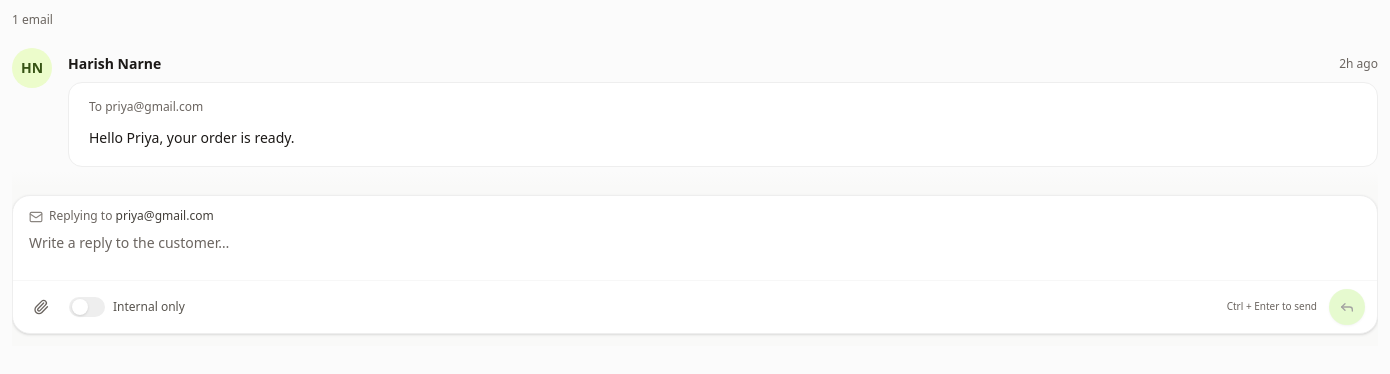
RecordCommunicationTab reply box › says so when the reply was saved but the email was not delivered
Type "Hello" into the text box at coordinates (695, 252), box [13,224,1377,280]
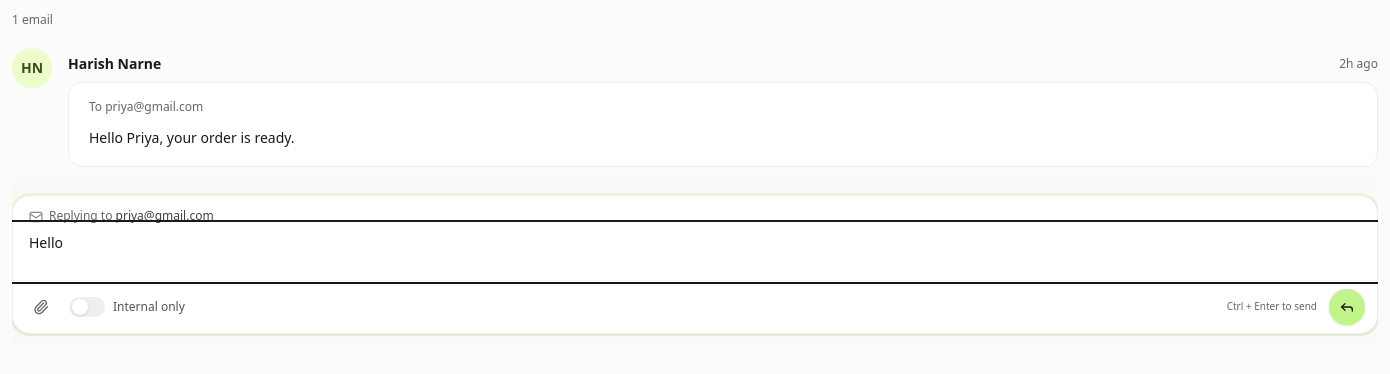
Click the button named "Send reply" at coordinates (1347, 307), box [1329,289,1365,325]
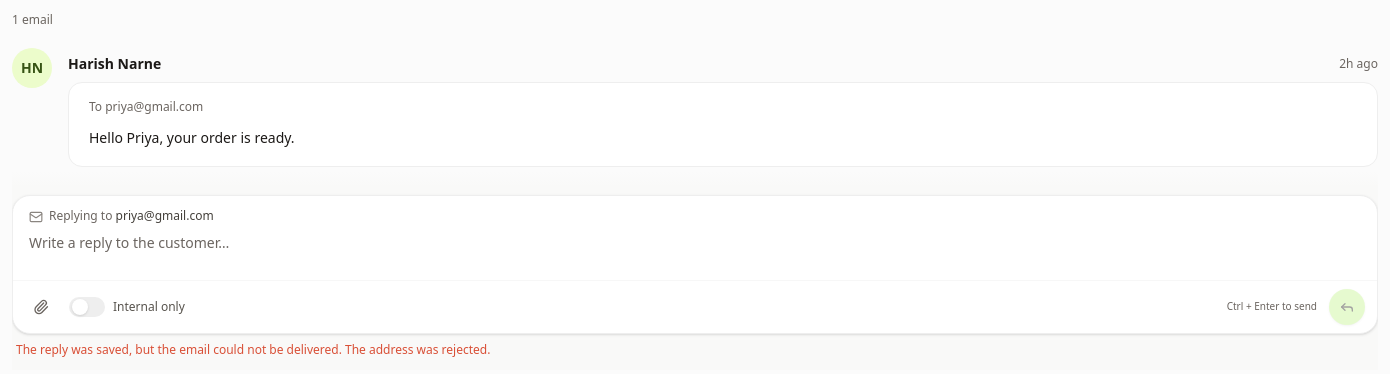
Now the message shows "The reply was saved, but the email could not be delivered. The address was rejected.", box [16,341,490,358]
